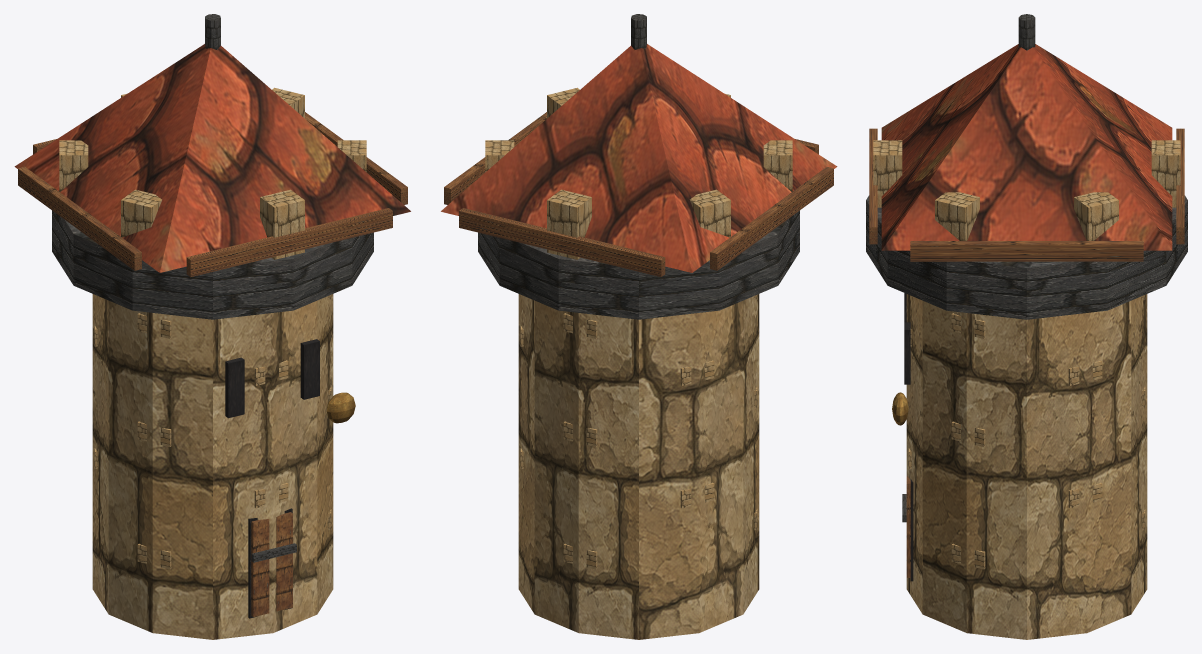
File: watch-tower.glb
The picture shows the model from 3 angles, left to right: view 1: azimuth 30°, elevation 25°; view 2: azimuth 150°, elevation 25°; view 3: azimuth 270°, elevation 25°; orthographic projection.
Parts seen in each view (by area): view 1: watch_tower_landmark; view 2: watch_tower_landmark; view 3: watch_tower_landmark.
Part boxes in pixels (box(x1,y1,x2,y2)): watch_tower_landmark: box(14, 14, 410, 639); watch_tower_landmark: box(441, 14, 837, 639); watch_tower_landmark: box(866, 14, 1187, 639).
Size of the model in its own units: 3.1 by 6.08 by 3.1.
7 materials, 7 textured.
